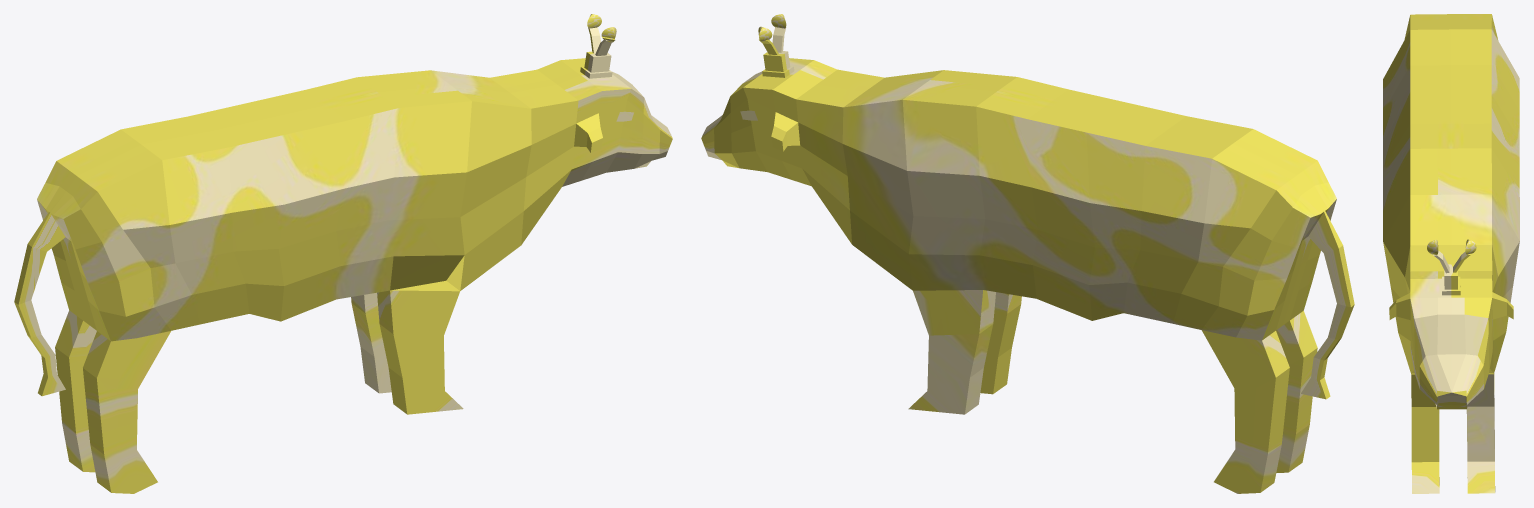
Rendered from VacaAma.fbx.
3 renders of one model, left to right at view 1: azimuth 30°, elevation 25°; view 2: azimuth 150°, elevation 25°; view 3: azimuth 270°, elevation 25°, orthographic.
Parts seen in each view (by area): view 1: Cube; view 2: Cube; view 3: Cube.
Part boxes in pixels (x1,y1,x2,y2): Cube: (14,14,672,493); Cube: (701,14,1354,493); Cube: (1383,14,1519,493).
Bounding box in the file's own units: 538 × 268 × 99.73.
1 material, 1 textured.
